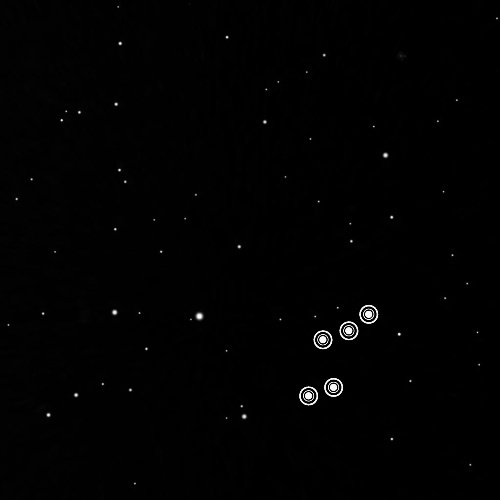lyra: (289, 293, 383, 418)
